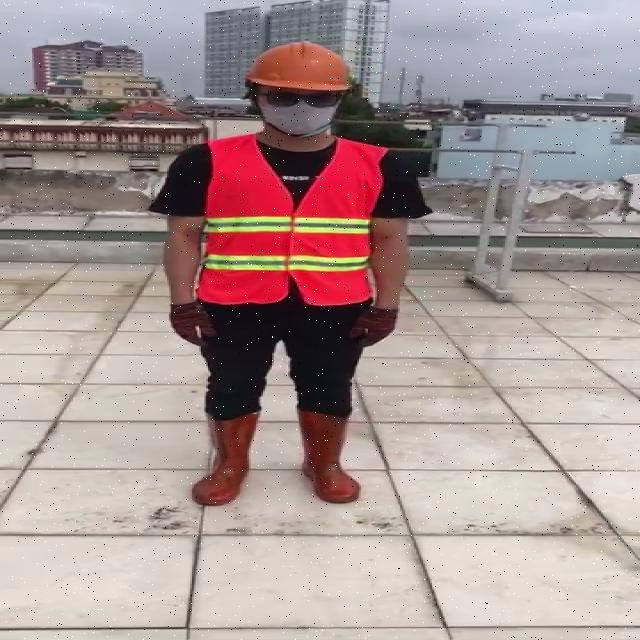Hard_hat: (236, 38, 358, 103)
Vest: (200, 133, 378, 308)
